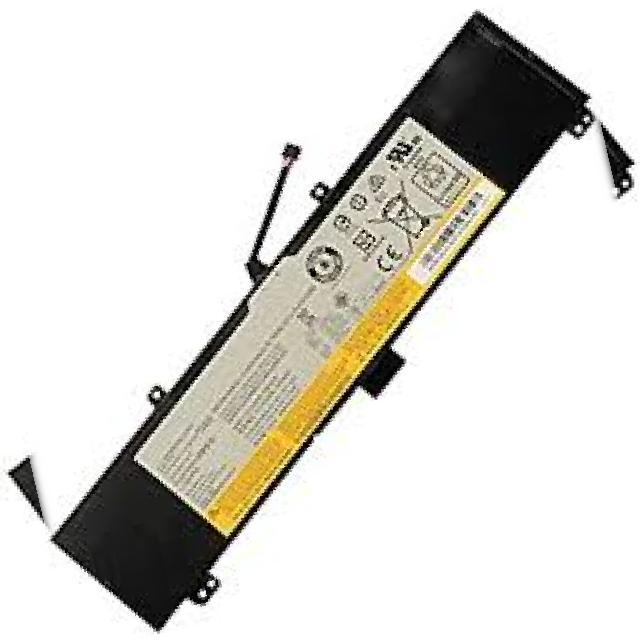Battery: (37, 3, 599, 615)
